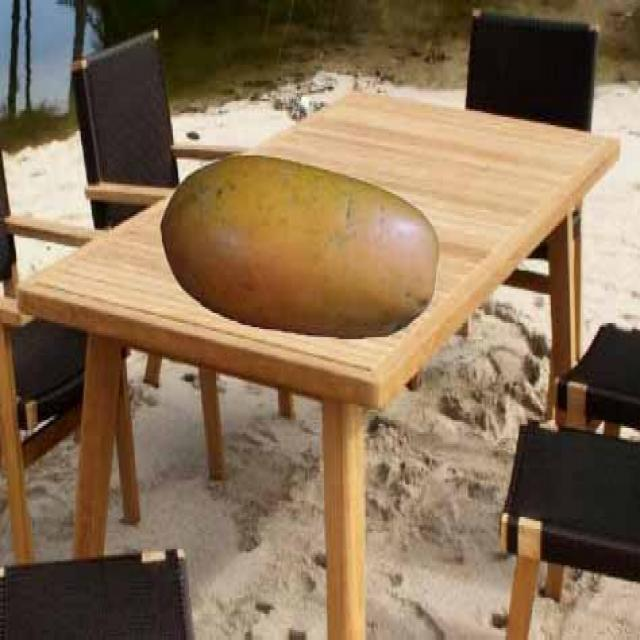Pepaya rippen: (159, 144, 431, 344)
